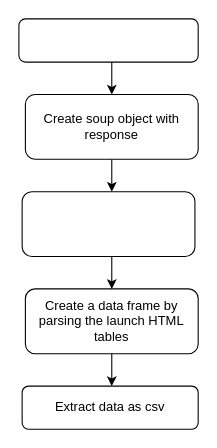
Image size: 217x448. Some labels were removed from this diagram. The shapes that lost their labels are listed below. From the top down, each one's box as (x1, y1, x2, y2) in pixels, then its label:
(18, 18, 198, 62): Send get request
(21, 191, 195, 256): Extract all column/variable names from the HTML table header
